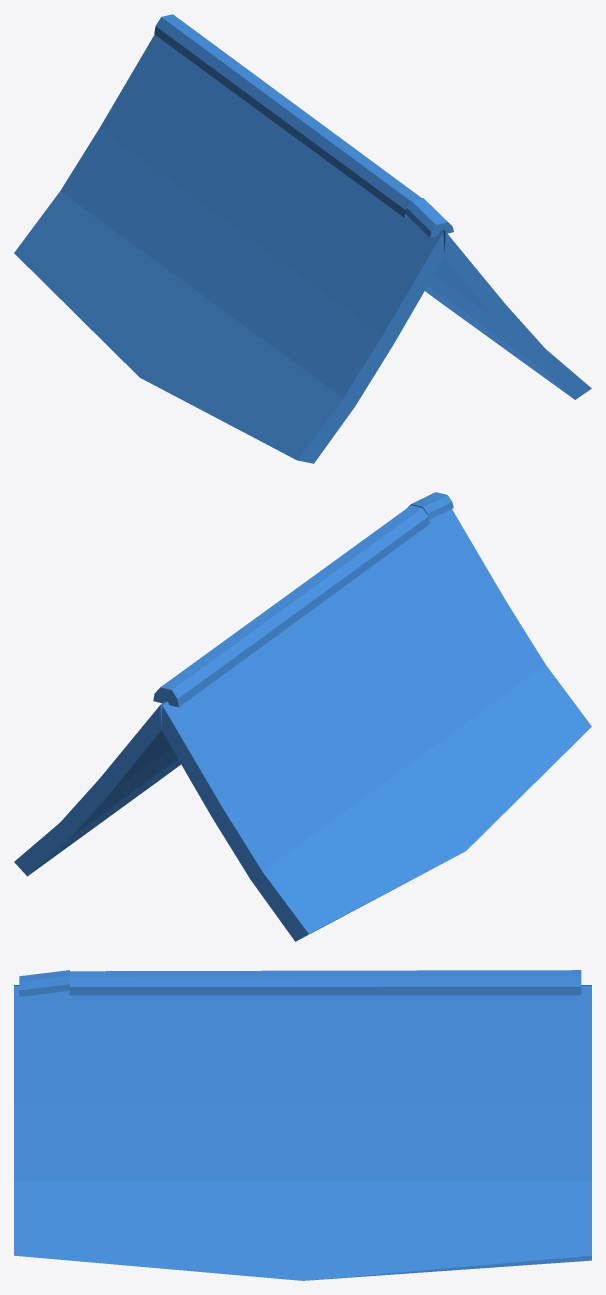
File: Collision_Roof_FlatTiles_6x12.fbx
3 views of the same model, one above another, from view 1: azimuth 30°, elevation 25°; view 2: azimuth 150°, elevation 25°; view 3: azimuth 270°, elevation 25° (orthographic). The views are drawn at different scales.
Visible parts, largest first — view 1: UCX_Roof_FlatTiles_6x12_01; view 2: UCX_Roof_FlatTiles_6x12_01; view 3: UCX_Roof_FlatTiles_6x12_01.
Part boxes in pixels (<box>): UCX_Roof_FlatTiles_6x12_01: <box>14,14,591,463</box>; UCX_Roof_FlatTiles_6x12_01: <box>14,492,591,941</box>; UCX_Roof_FlatTiles_6x12_01: <box>14,970,591,1280</box>.
Bounding box in the file's own units: 913 × 595 × 1373.
